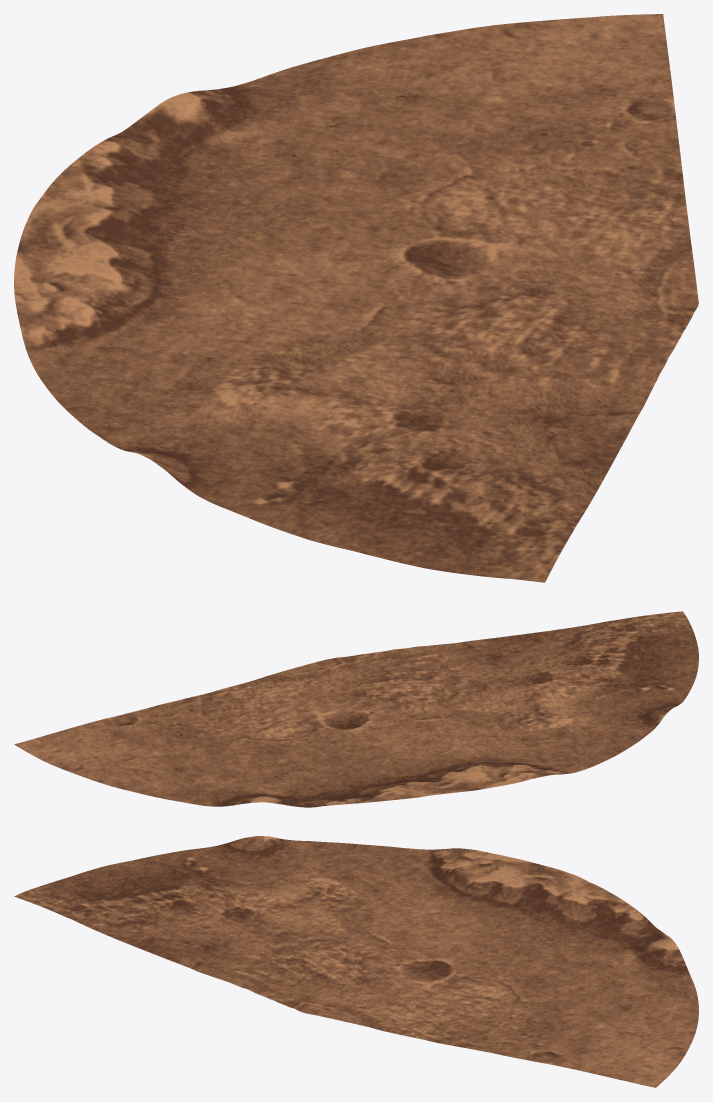
Rendered from near.obj.
3 renders of one model, top to bottom at view 1: azimuth 30°, elevation 25°; view 2: azimuth 150°, elevation 25°; view 3: azimuth 270°, elevation 25°, orthographic. The views are drawn at different scales.
Visible parts, largest first — view 1: near; view 2: near; view 3: near.
Boxes of the visible parts, x1=… form: near: x1=14, y1=14, x2=698, y2=582; near: x1=14, y1=611, x2=698, y2=807; near: x1=14, y1=836, x2=698, y2=1087.
Bounding box in the file's own units: 3417 × 114 × 4069.
